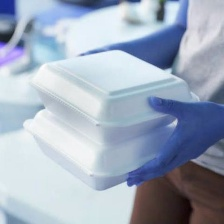foam_box: (24, 45, 205, 154), (18, 97, 205, 193)
